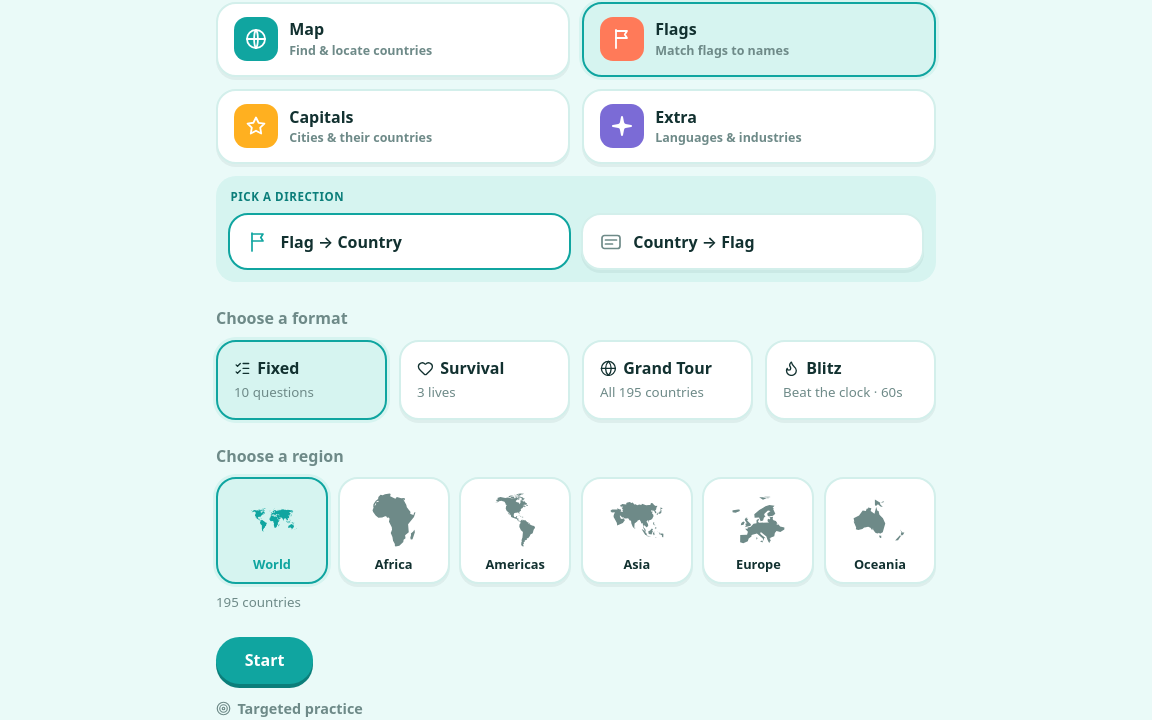
Scenario: Play route › FAB launch plays the veil flourish, then starts the selected game
(page scrolled)
Step 1. Click the button "Europe" → (758, 530), box [702, 477, 814, 584]
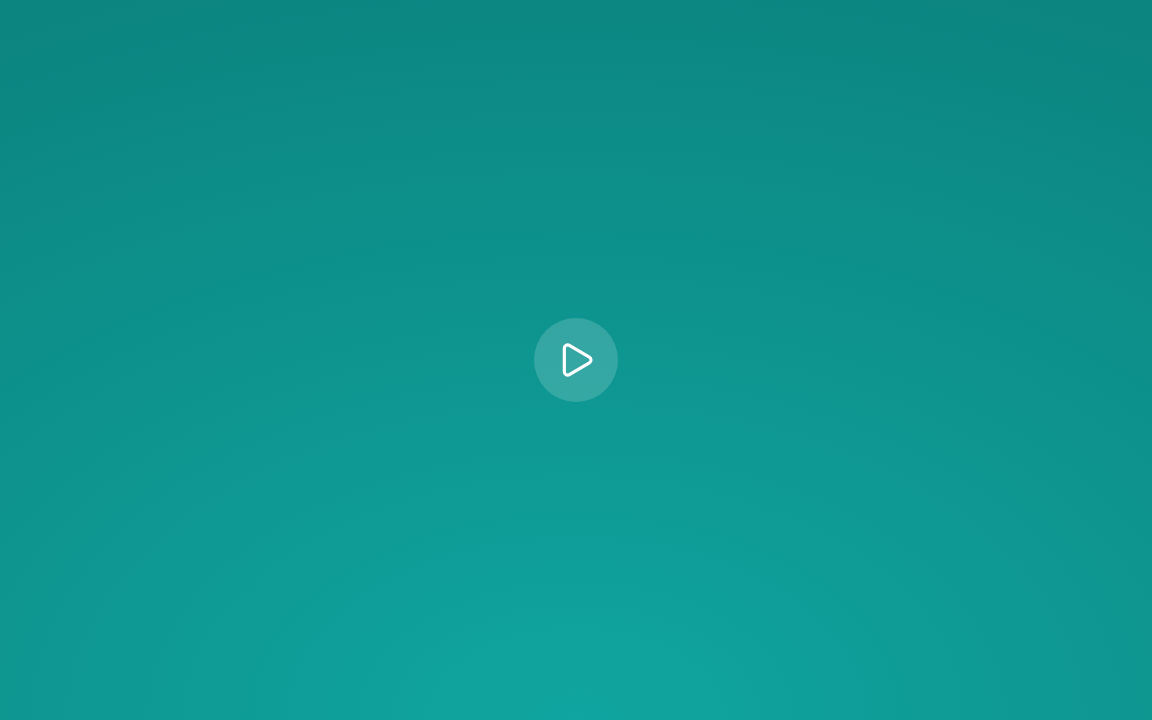
Check: the element with class "launch-veil" is shown
